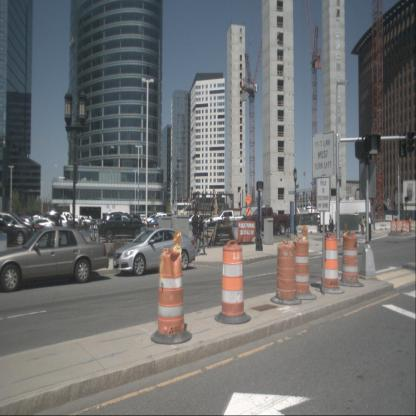cone: (151, 230, 192, 344), (214, 240, 251, 324), (271, 239, 302, 305), (290, 236, 317, 300), (316, 232, 344, 293), (338, 231, 364, 287), (401, 220, 407, 233), (396, 220, 401, 233), (390, 220, 395, 233), (405, 222, 410, 233), (410, 220, 414, 232)
